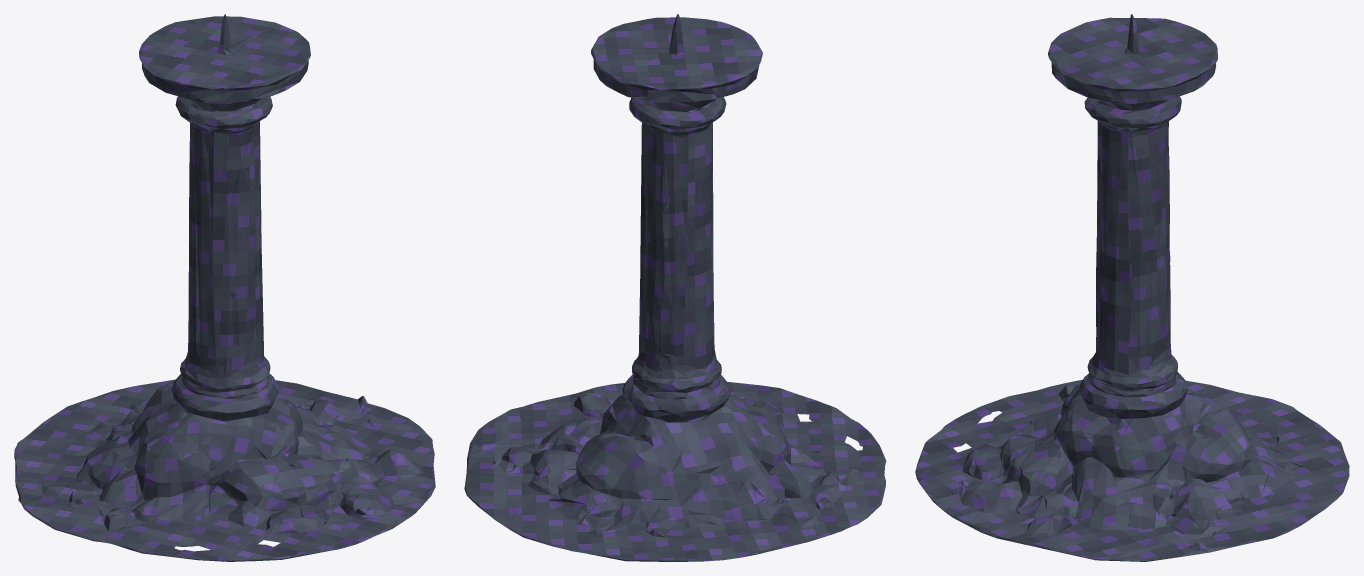
The model's file is solitude-pillar-4.collider.glb.
3 renders of one model, left to right at view 1: azimuth 30°, elevation 25°; view 2: azimuth 150°, elevation 25°; view 3: azimuth 270°, elevation 25°, orthographic.
Parts seen in each view (by area): view 1: temp_mesh.ply; view 2: temp_mesh.ply; view 3: temp_mesh.ply.
Boxes of the visible parts, left/top/right/bottom form: temp_mesh.ply: left=14, top=14, right=435, bottom=561; temp_mesh.ply: left=464, top=14, right=886, bottom=561; temp_mesh.ply: left=915, top=14, right=1349, bottom=561.
Size of the model in its own units: 1.73 by 1.97 by 1.71.
Materials: 1 (1 with a texture image).
